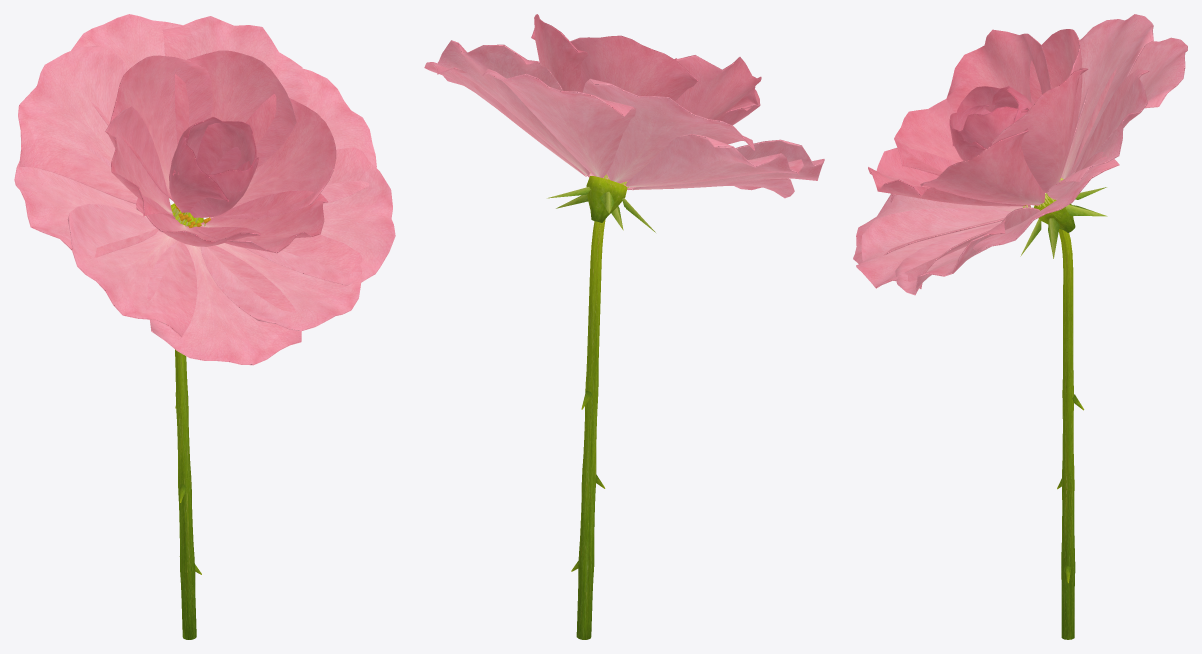
File: rose_19.glb
3 views of the same model, side by side, from view 1: azimuth 30°, elevation 25°; view 2: azimuth 150°, elevation 25°; view 3: azimuth 270°, elevation 25° (orthographic). The views are drawn at different scales.
Parts seen in each view (by area): view 1: Petal_1_outer_03, Petal_3_outer_04, Petal_4_outer_01, Petal_5_outer_04, Petal_6_outer_02, Petal_11_middle_01, Petal_12_middle_04, Petal_13_middle_01, Petal_2_outer_02, Petal_8_outer_02, Petal_10_middle_03, Stem_Skinned (+8 smaller); view 2: Petal_0_outer_01, Petal_1_outer_03, Stem_Skinned, Petal_13_middle_01, Petal_2_outer_02, Petal_8_outer_02, Petal_14_middle_03, Petal_3_outer_04, Petal_12_middle_04, Hypanthium_and_five_sepals, Petal_7_outer_03, Petal_4_outer_01; view 3: Petal_5_outer_04, Petal_1_outer_03, Stem_Skinned, Petal_11_middle_01, Petal_14_middle_03, Petal_12_middle_04, Petal_8_outer_02, Petal_0_outer_01, Petal_6_outer_02, Petal_10_middle_03, Petal_9_middle_02, Petal_13_middle_01 (+7 smaller).
Boxes of the visible parts, x1=… form: Petal_1_outer_03: x1=18, y1=46, x2=137, y2=204; Petal_3_outer_04: x1=67, y1=204, x2=197, y2=337; Petal_4_outer_01: x1=147, y1=241, x2=301, y2=365; Petal_5_outer_04: x1=200, y1=235, x2=362, y2=331; Petal_6_outer_02: x1=209, y1=147, x2=395, y2=286; Petal_11_middle_01: x1=217, y1=94, x2=336, y2=219; Petal_12_middle_04: x1=175, y1=50, x2=296, y2=168; Petal_13_middle_01: x1=109, y1=55, x2=212, y2=200; Petal_2_outer_02: x1=14, y1=145, x2=158, y2=257; Petal_8_outer_02: x1=162, y1=16, x2=311, y2=105; Petal_10_middle_03: x1=196, y1=190, x2=328, y2=253; Stem_Skinned: x1=175, y1=212, x2=201, y2=639; Petal_0_outer_01: x1=482, y1=69, x2=635, y2=177; Petal_1_outer_03: x1=583, y1=78, x2=754, y2=183; Stem_Skinned: x1=571, y1=219, x2=605, y2=639; Petal_13_middle_01: x1=570, y1=35, x2=698, y2=100; Petal_2_outer_02: x1=626, y1=133, x2=803, y2=188; Petal_8_outer_02: x1=437, y1=40, x2=590, y2=174; Petal_14_middle_03: x1=675, y1=55, x2=761, y2=119; Petal_3_outer_04: x1=632, y1=139, x2=824, y2=190; Petal_12_middle_04: x1=534, y1=14, x2=587, y2=92; Hypanthium_and_five_sepals: x1=547, y1=176, x2=655, y2=232; Petal_7_outer_03: x1=424, y1=62, x2=587, y2=176; Petal_4_outer_01: x1=624, y1=178, x2=794, y2=198; Petal_5_outer_04: x1=856, y1=208, x2=1011, y2=288; Petal_1_outer_03: x1=1060, y1=14, x2=1153, y2=180; Stem_Skinned: x1=1044, y1=197, x2=1084, y2=639; Petal_11_middle_01: x1=920, y1=128, x2=1044, y2=205; Petal_14_middle_03: x1=946, y1=29, x2=1050, y2=112; Petal_12_middle_04: x1=991, y1=68, x2=1088, y2=193; Petal_8_outer_02: x1=1047, y1=69, x2=1149, y2=199; Petal_0_outer_01: x1=1070, y1=37, x2=1187, y2=175; Petal_6_outer_02: x1=895, y1=207, x2=1039, y2=295; Petal_10_middle_03: x1=868, y1=148, x2=1030, y2=206; Petal_9_middle_02: x1=894, y1=99, x2=962, y2=175; Petal_13_middle_01: x1=1029, y1=29, x2=1082, y2=173.
Bounding box in the file's own units: 0.1982 × 0.3266 × 0.1693.
7 materials, 7 textured.
